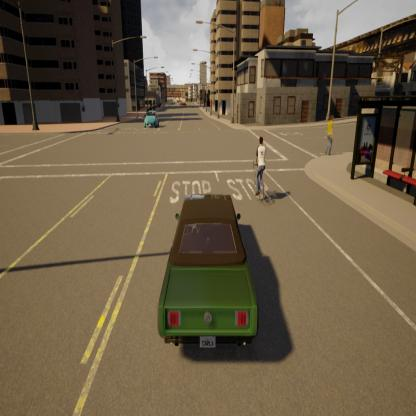Cars: (148, 184, 263, 362), (252, 131, 269, 204), (143, 109, 161, 130)
Pedestrian: (320, 108, 338, 159)
